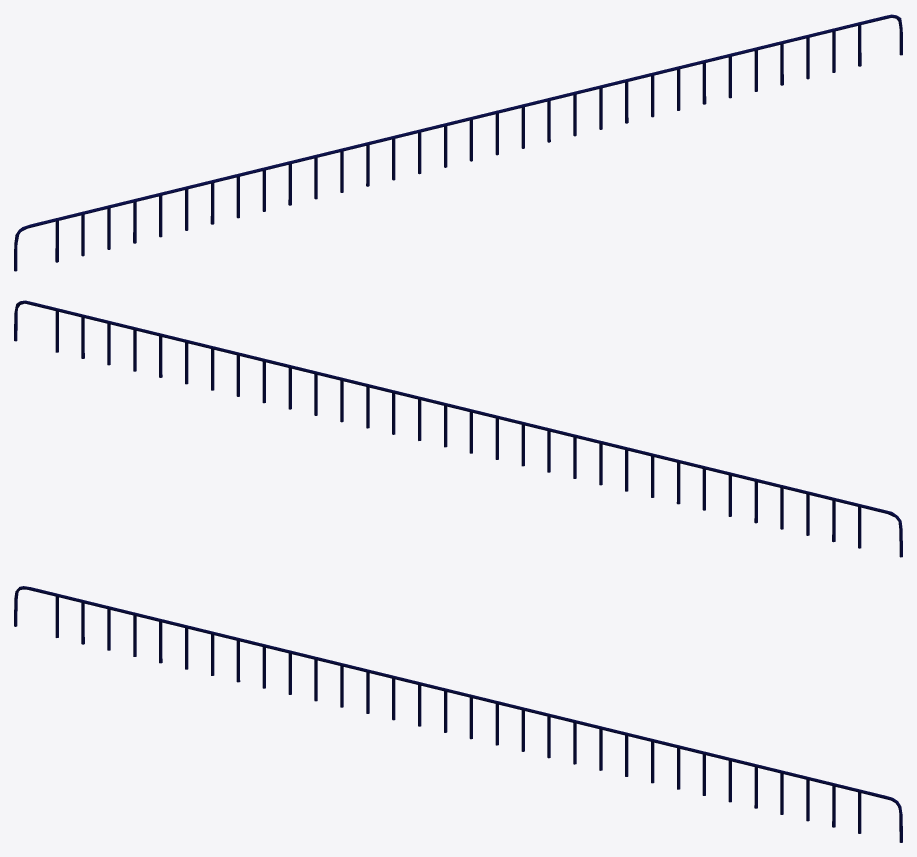
File: FloodLights_WallsFloodLightsRailing_001.FBX
The picture shows the model from 3 angles, top to bottom: view 1: azimuth 30°, elevation 25°; view 2: azimuth 150°, elevation 25°; view 3: azimuth 330°, elevation 25°; orthographic projection.
Visible parts, largest first — view 1: FloodLights_WallsFloodLightsRailing_001; view 2: FloodLights_WallsFloodLightsRailing_001; view 3: FloodLights_WallsFloodLightsRailing_001.
Part boxes in pixels (x1,y1,x2,y2): FloodLights_WallsFloodLightsRailing_001: [14, 14, 902, 271]; FloodLights_WallsFloodLightsRailing_001: [14, 300, 902, 557]; FloodLights_WallsFloodLightsRailing_001: [14, 586, 902, 842].
Size of the model in its own units: 13657 by 45.78 by 644.
